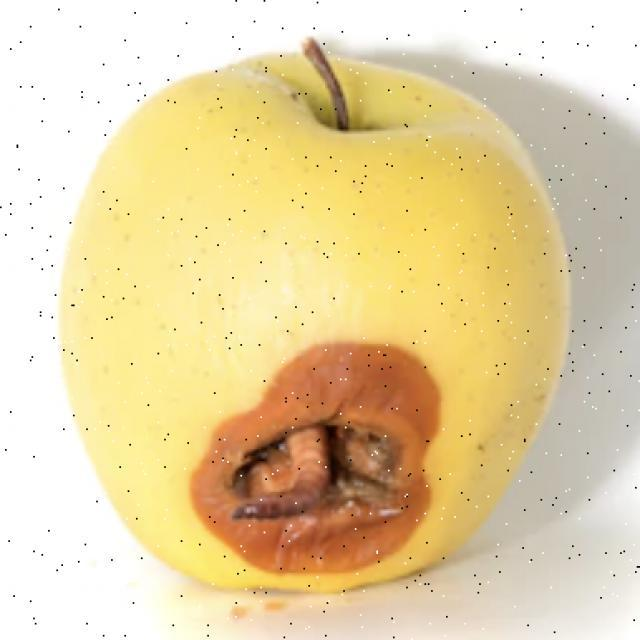Rotten: (63, 59, 537, 618)
